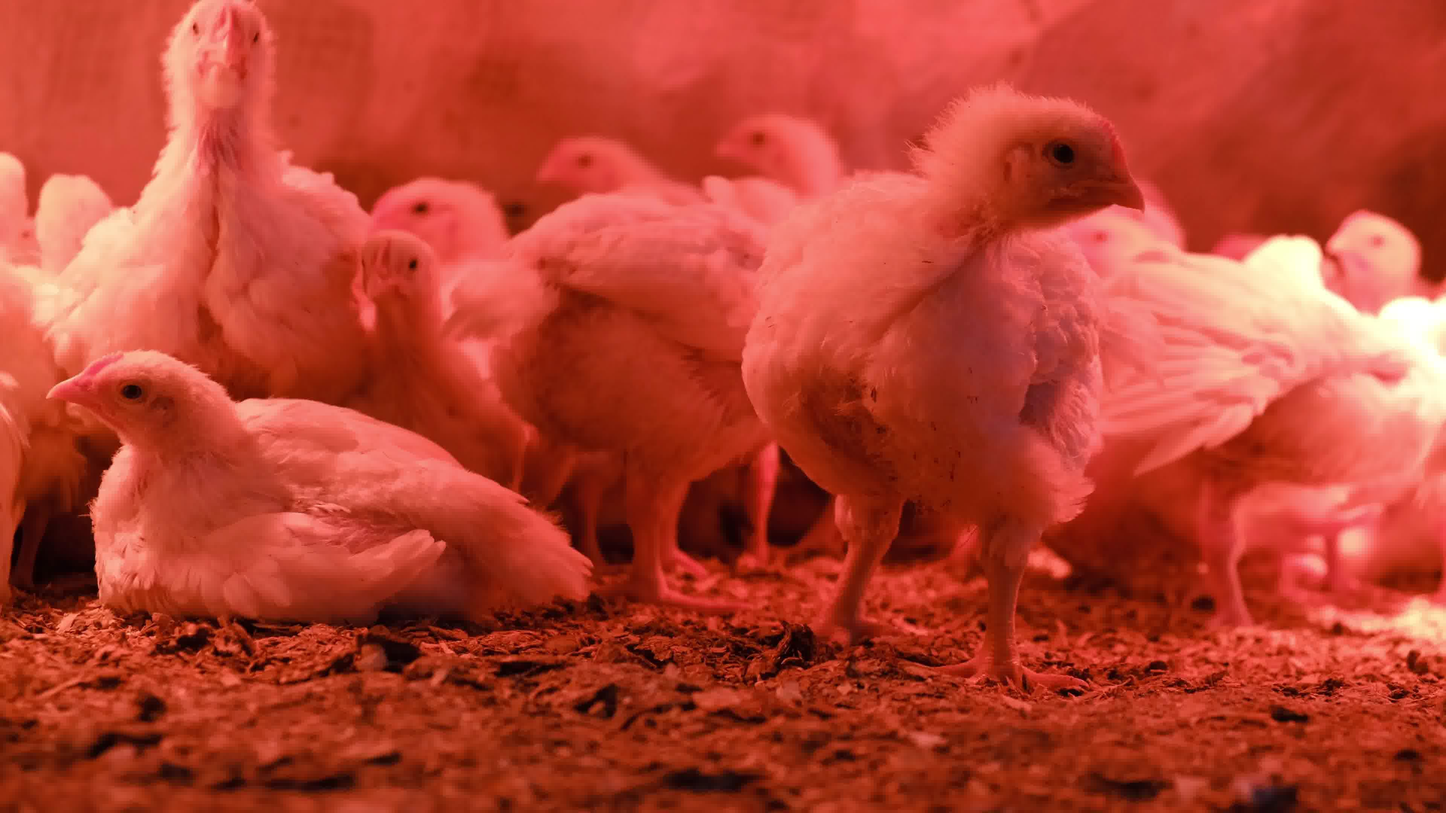AbNormal: (28, 343, 602, 629)
Normal: (830, 94, 1149, 683), (491, 186, 823, 617), (1143, 269, 1446, 638), (104, 0, 358, 358), (329, 222, 540, 489), (320, 171, 527, 254), (1301, 203, 1422, 316), (537, 124, 657, 196), (697, 104, 836, 162)
